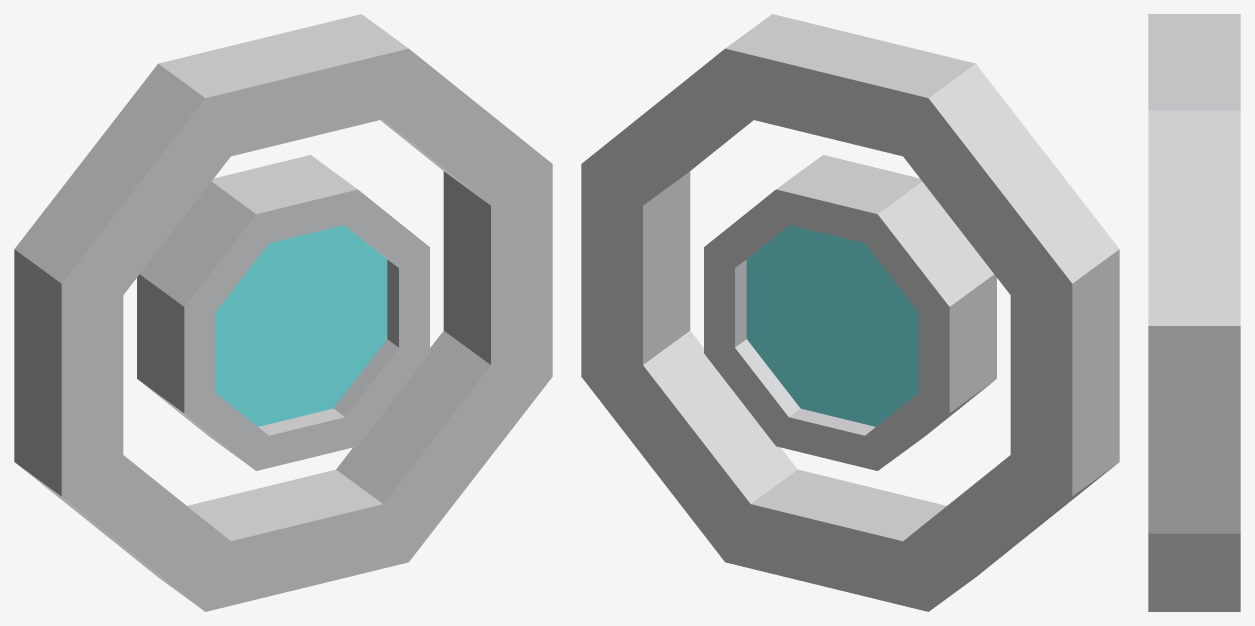
File: LaserReceiver.fbx
3 renders of one model, left to right at view 1: azimuth 30°, elevation 25°; view 2: azimuth 150°, elevation 25°; view 3: azimuth 270°, elevation 25°, orthographic. The views are drawn at different scales.
Visible parts, largest first — view 1: tube, tube_1, cylinder; view 2: tube, tube_1, cylinder; view 3: tube.
Part boxes in pixels (x1,y1,x2,y2): tube: (14,14,552,611); tube_1: (137,155,429,470); cylinder: (215,225,387,426); tube: (581,14,1119,611); tube_1: (704,155,996,470); cylinder: (746,225,918,426); tube: (1148,14,1240,611).
Size of the model in its own units: 37.5 by 37.5 by 6.25.
1 material, 1 textured.
